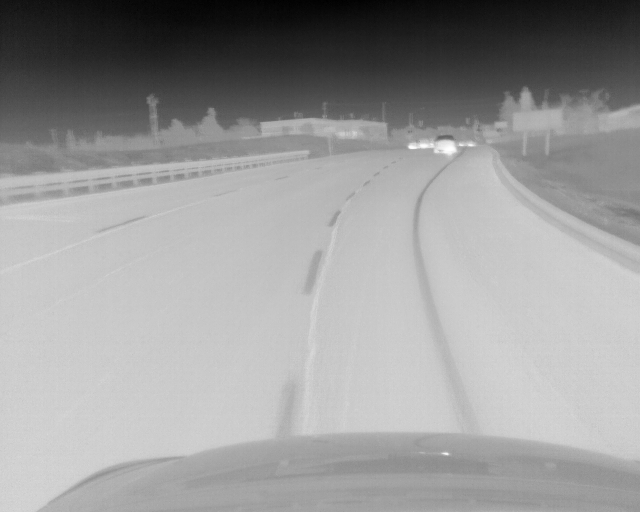car: (435, 134, 458, 153)
